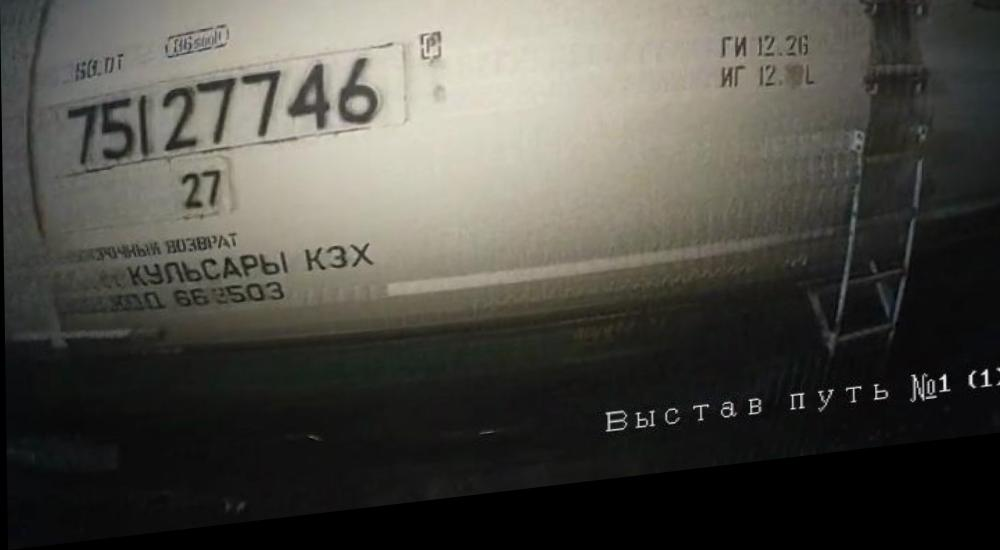Wagon-number: (61, 57, 386, 176)
